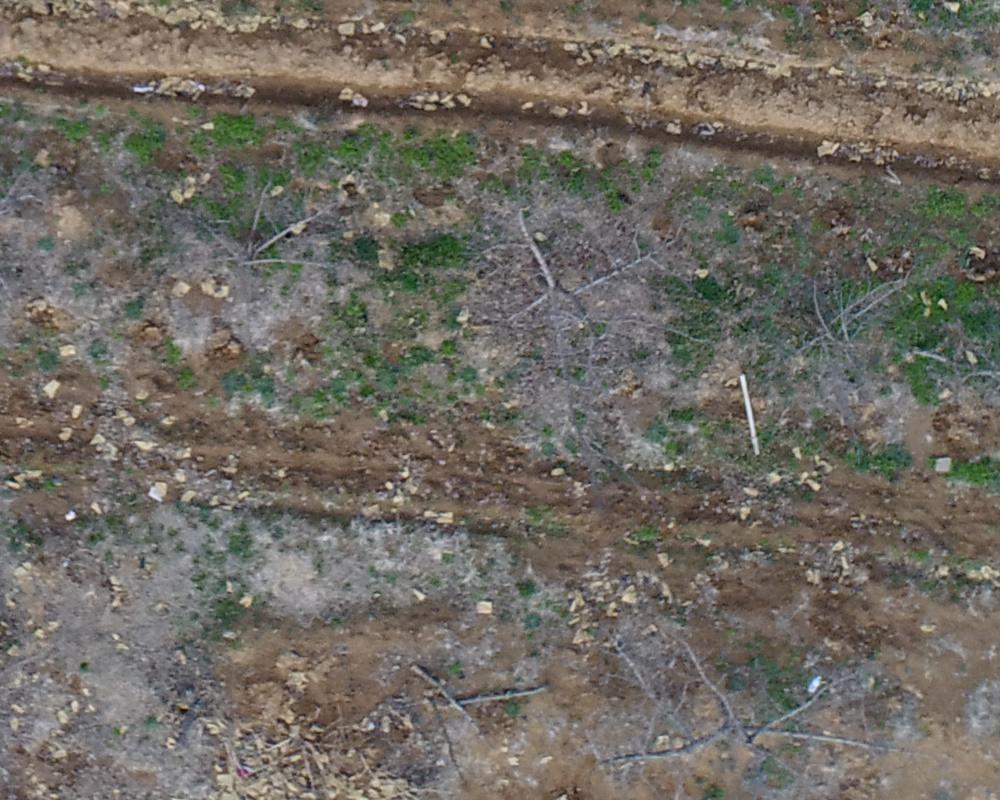apple: (595, 643, 891, 790), (145, 157, 366, 332), (435, 185, 625, 373), (750, 246, 928, 393)
